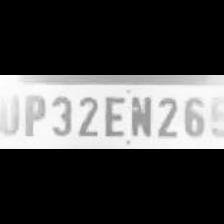2: (153, 94, 180, 138), (74, 92, 99, 138)
3: (46, 92, 72, 136)
6: (180, 94, 206, 138)
E: (100, 90, 124, 138)
N: (127, 92, 152, 138)
P: (20, 90, 46, 138)
U: (0, 90, 18, 136)
